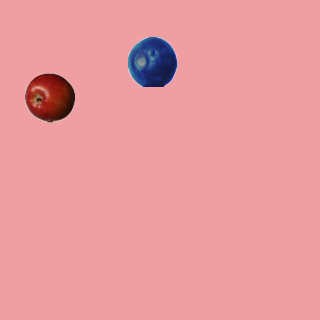Apple Braeburn: (24, 72, 74, 122)
Huckleberry: (127, 36, 177, 86)
